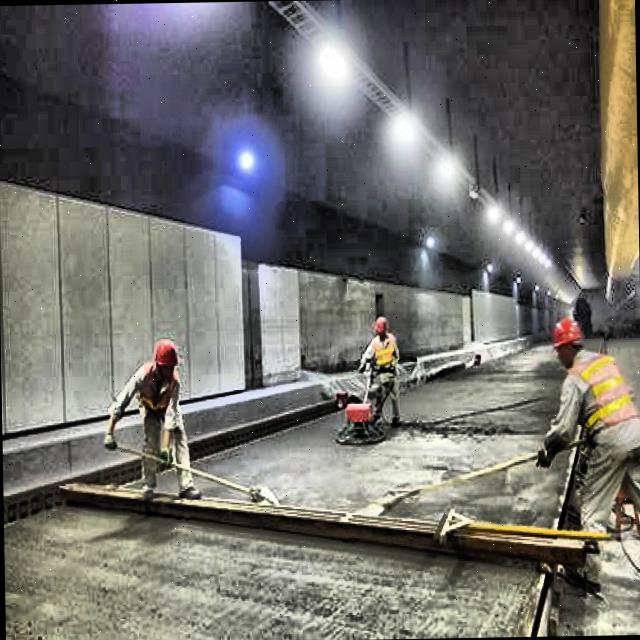helmet: (549, 313, 589, 373), (150, 334, 180, 384), (374, 308, 389, 344)
